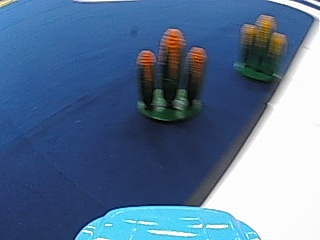corn: (134, 35, 206, 123), (238, 11, 283, 82)
